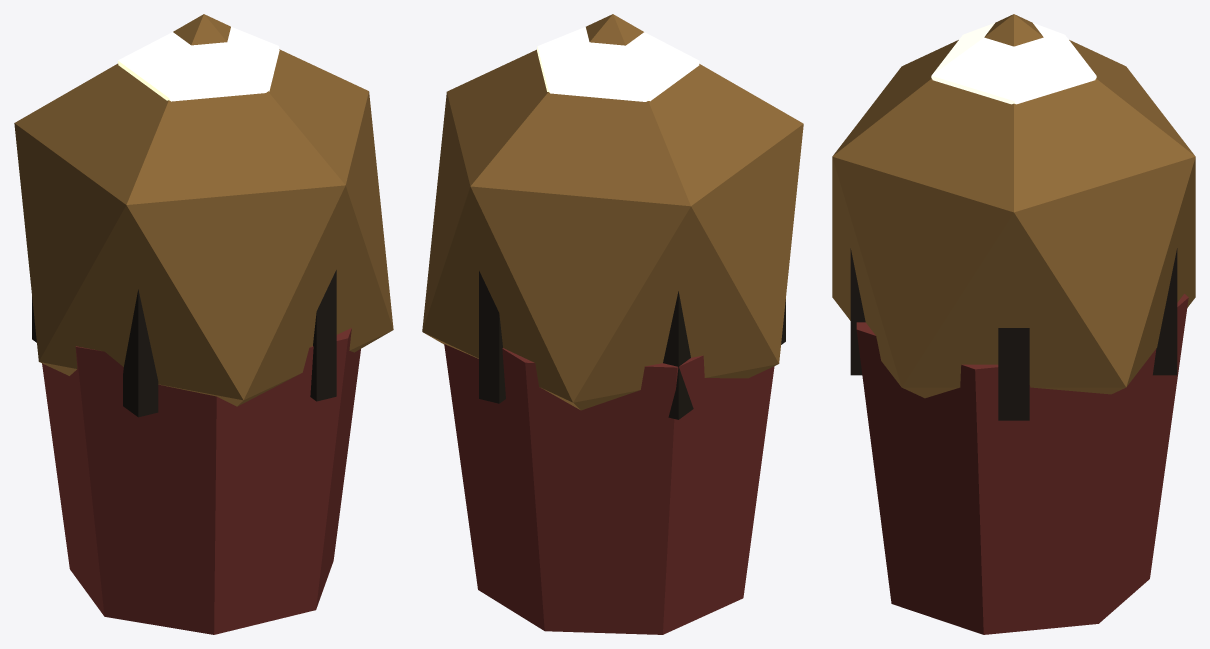
The model's file is spore_pod.glb.
3 views of the same model, side by side, from view 1: azimuth 30°, elevation 25°; view 2: azimuth 150°, elevation 25°; view 3: azimuth 270°, elevation 25° (orthographic).
Parts seen in each view (by area): view 1: spore_pod; view 2: spore_pod; view 3: spore_pod.
Part boxes in pixels (x1=…): spore_pod: x1=14, y1=14, x2=393, y2=634; spore_pod: x1=422, y1=14, x2=803, y2=634; spore_pod: x1=832, y1=14, x2=1195, y2=634.
Size of the model in its own units: 0.9839 by 1.61 by 0.9357.
2 materials, 1 textured.
